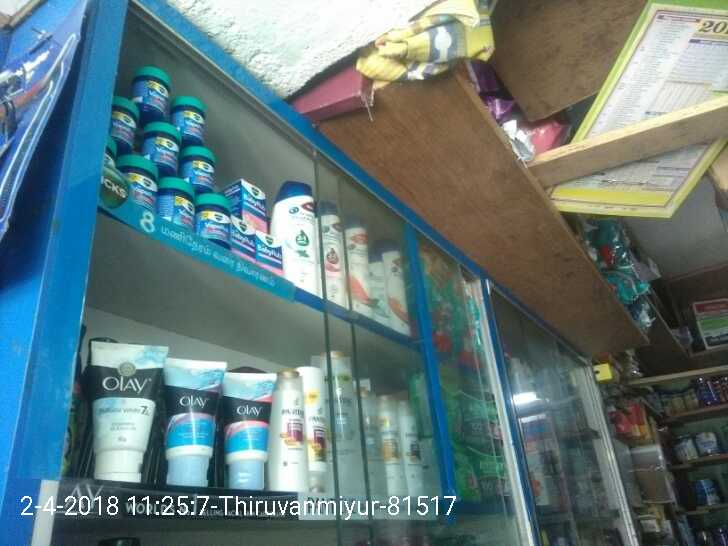vicks: (101, 49, 230, 250), (232, 170, 281, 280)
